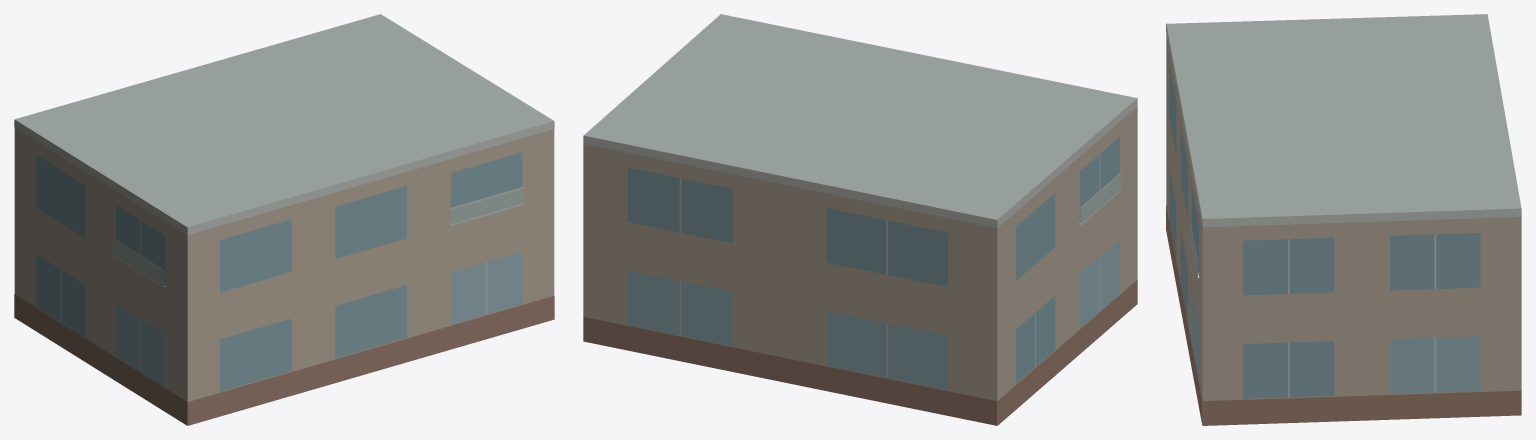
The model's file is survey-upis-32698386.glb.
3 renders of one model, left to right at view 1: azimuth 30°, elevation 25°; view 2: azimuth 150°, elevation 25°; view 3: azimuth 270°, elevation 25°, orthographic. The views are drawn at different scales.
Parts seen in each view (by area): view 1: survey-upis-32698386.tmp; view 2: survey-upis-32698386.tmp; view 3: survey-upis-32698386.tmp.
Boxes of the visible parts, <box> form: survey-upis-32698386.tmp: <box>14,14,554,425</box>; survey-upis-32698386.tmp: <box>583,14,1137,425</box>; survey-upis-32698386.tmp: <box>1166,14,1521,425</box>.
Size of the model in its own units: 12.99 by 6.1 by 9.51.
